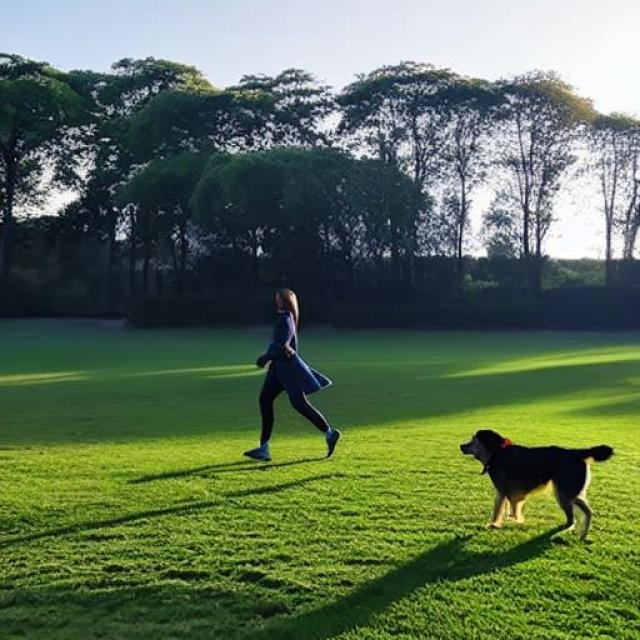Unleashed_Dog: (273, 369, 616, 542)
